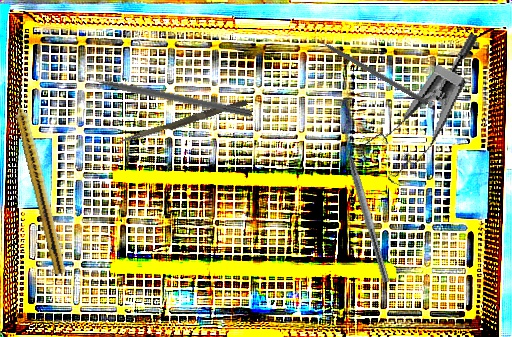Chopper: (337, 130, 401, 284)
Handpiece: (8, 86, 71, 276)
Hook Surgical: (309, 32, 430, 106)
Pusher: (71, 70, 254, 118), (117, 96, 248, 149)
Speculum: (351, 11, 481, 196)
